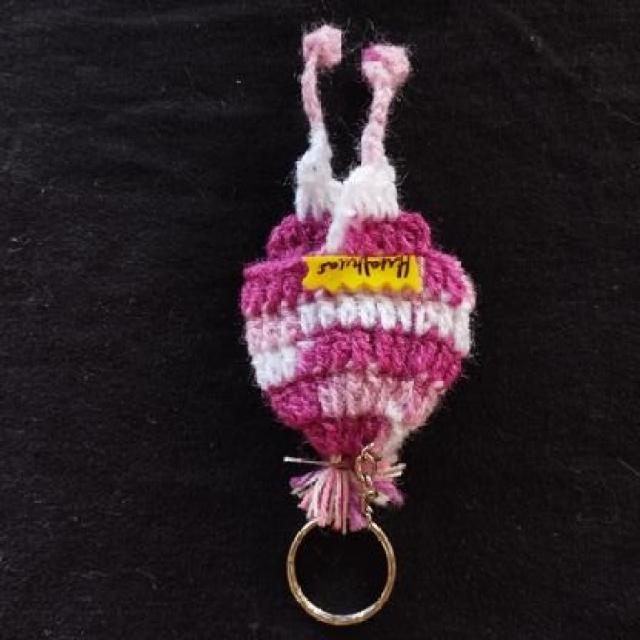Llavero: (236, 21, 478, 625)
